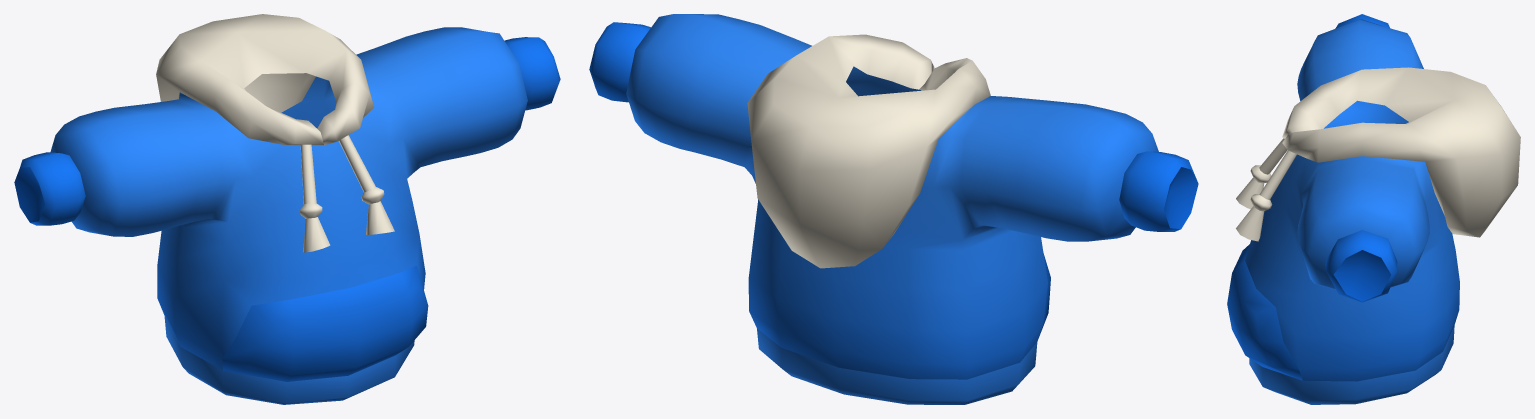
File: Top_25.fbx
3 views of the same model, side by side, from view 1: azimuth 30°, elevation 25°; view 2: azimuth 150°, elevation 25°; view 3: azimuth 270°, elevation 25° (orthographic). The views are drawn at different scales.
Parts seen in each view (by area): view 1: Top_25; view 2: Top_25; view 3: Top_25.
Boxes of the visible parts, x1=… form: Top_25: x1=14, y1=14, x2=560, y2=404; Top_25: x1=589, y1=14, x2=1198, y2=404; Top_25: x1=1227, y1=14, x2=1520, y2=404.
Size of the model in its own units: 95.72 by 52.6 by 50.88.
